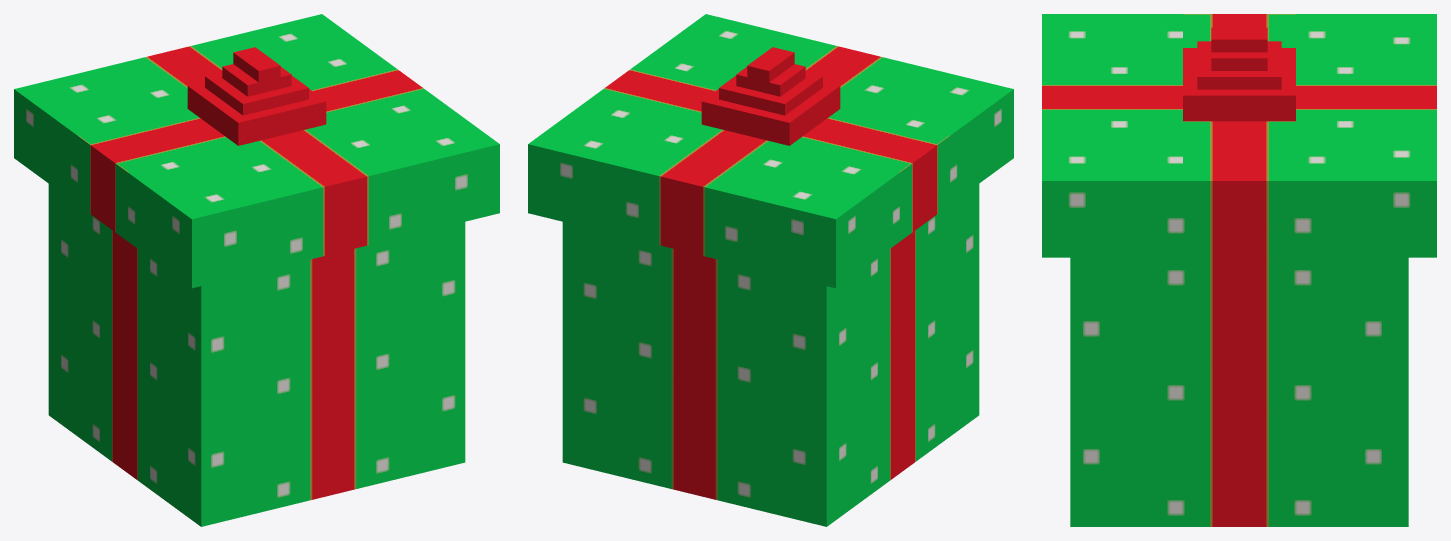
The model's file is Green.dae.
The picture shows the model from 3 angles, left to right: view 1: azimuth 30°, elevation 25°; view 2: azimuth 150°, elevation 25°; view 3: azimuth 270°, elevation 25°; orthographic projection. The views are drawn at different scales.
Parts seen in each view (by area): view 1: Present; view 2: Present; view 3: Present.
Part boxes in pixels (left/top/right/bottom): Present: left=14, top=14, right=499, bottom=526; Present: left=528, top=14, right=1013, bottom=526; Present: left=1042, top=14, right=1436, bottom=526.
Size of the model in its own units: 28 by 33 by 28.
1 material, 1 textured.
